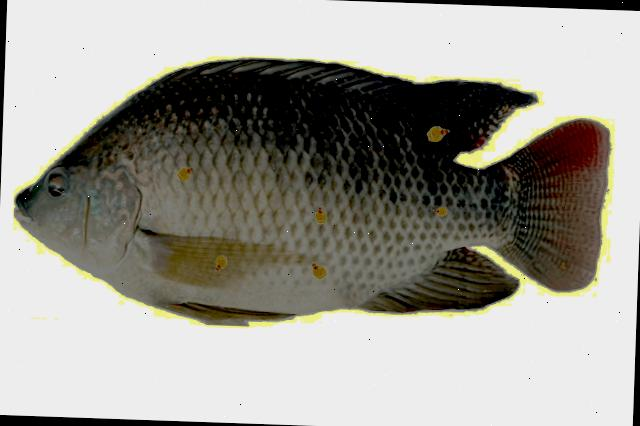Parasitic Disease: (15, 59, 609, 326)
